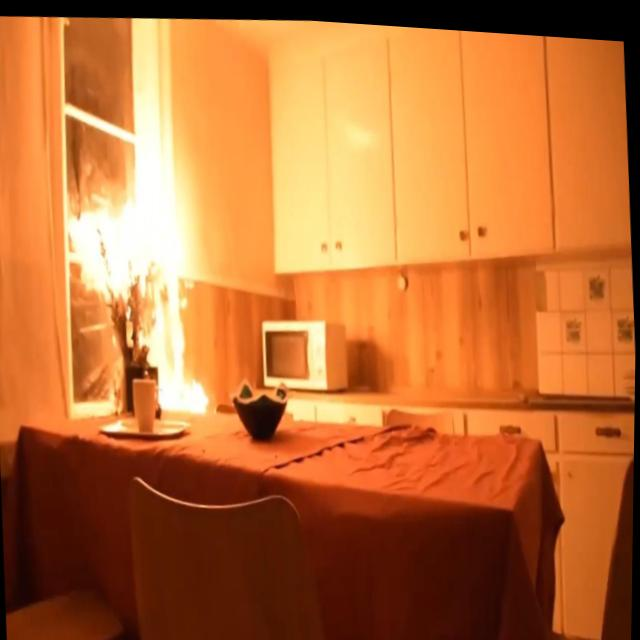fire: (68, 184, 211, 301), (137, 256, 217, 420)
